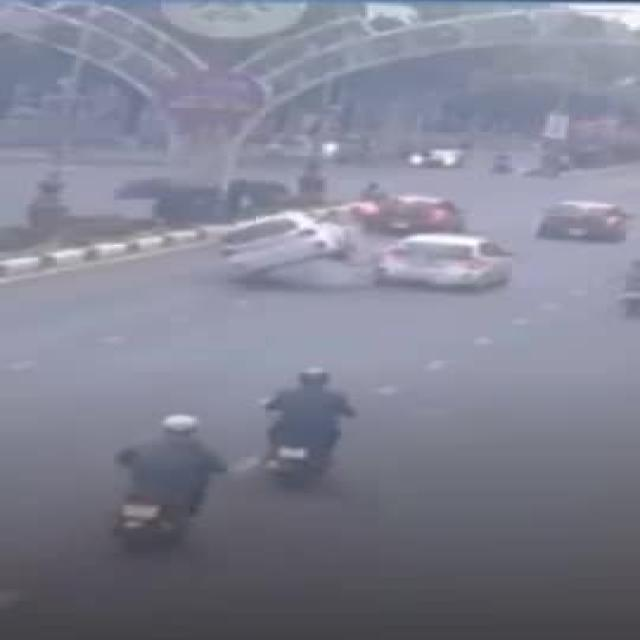multiple_accident: (195, 208, 522, 302)
normal: (103, 337, 356, 556)
